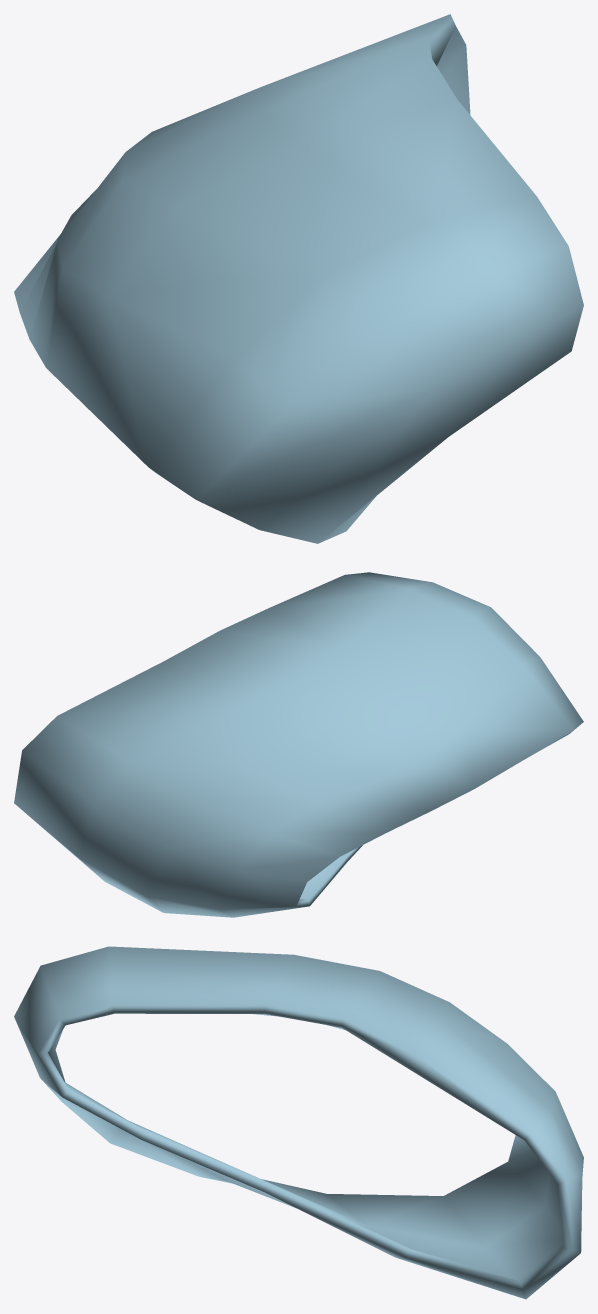
Rendered from articulacoes-articular-capsule-of-acromioclavicular-joint-r.glb.
The picture shows the model from 3 angles, top to bottom: view 1: azimuth 30°, elevation 25°; view 2: azimuth 150°, elevation 25°; view 3: azimuth 270°, elevation 25°; orthographic projection. The views are drawn at different scales.
Parts seen in each view (by area): view 1: Articular capsule of acromioclavicular joint.r; view 2: Articular capsule of acromioclavicular joint.r; view 3: Articular capsule of acromioclavicular joint.r.
Part boxes in pixels (bbox=[...]): Articular capsule of acromioclavicular joint.r: bbox=[14, 14, 583, 543]; Articular capsule of acromioclavicular joint.r: bbox=[14, 572, 583, 917]; Articular capsule of acromioclavicular joint.r: bbox=[14, 946, 583, 1299].
Size of the model in its own units: 0.027 by 0.016 by 0.0289.
